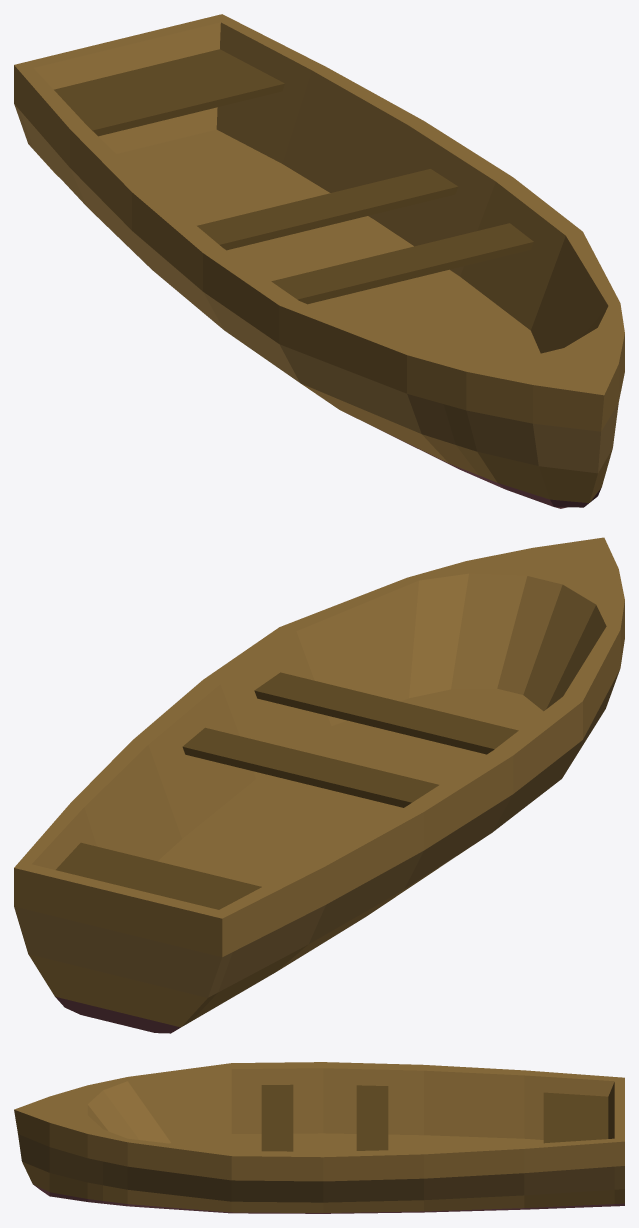
Rendered from Wood_BoatV1.glb.
3 renders of one model, top to bottom at view 1: azimuth 30°, elevation 25°; view 2: azimuth 150°, elevation 25°; view 3: azimuth 270°, elevation 25°, orthographic. The views are drawn at different scales.
Visible parts, largest first — view 1: Wood_BoatV1; view 2: Wood_BoatV1; view 3: Wood_BoatV1.
Boxes of the visible parts, <box> form: Wood_BoatV1: <box>14,14,624,508</box>; Wood_BoatV1: <box>14,537,624,1033</box>; Wood_BoatV1: <box>14,1062,624,1213</box>.
Size of the model in its own units: 1.49 by 0.5992 by 4.04.
Materials: 1 (1 with a texture image).
